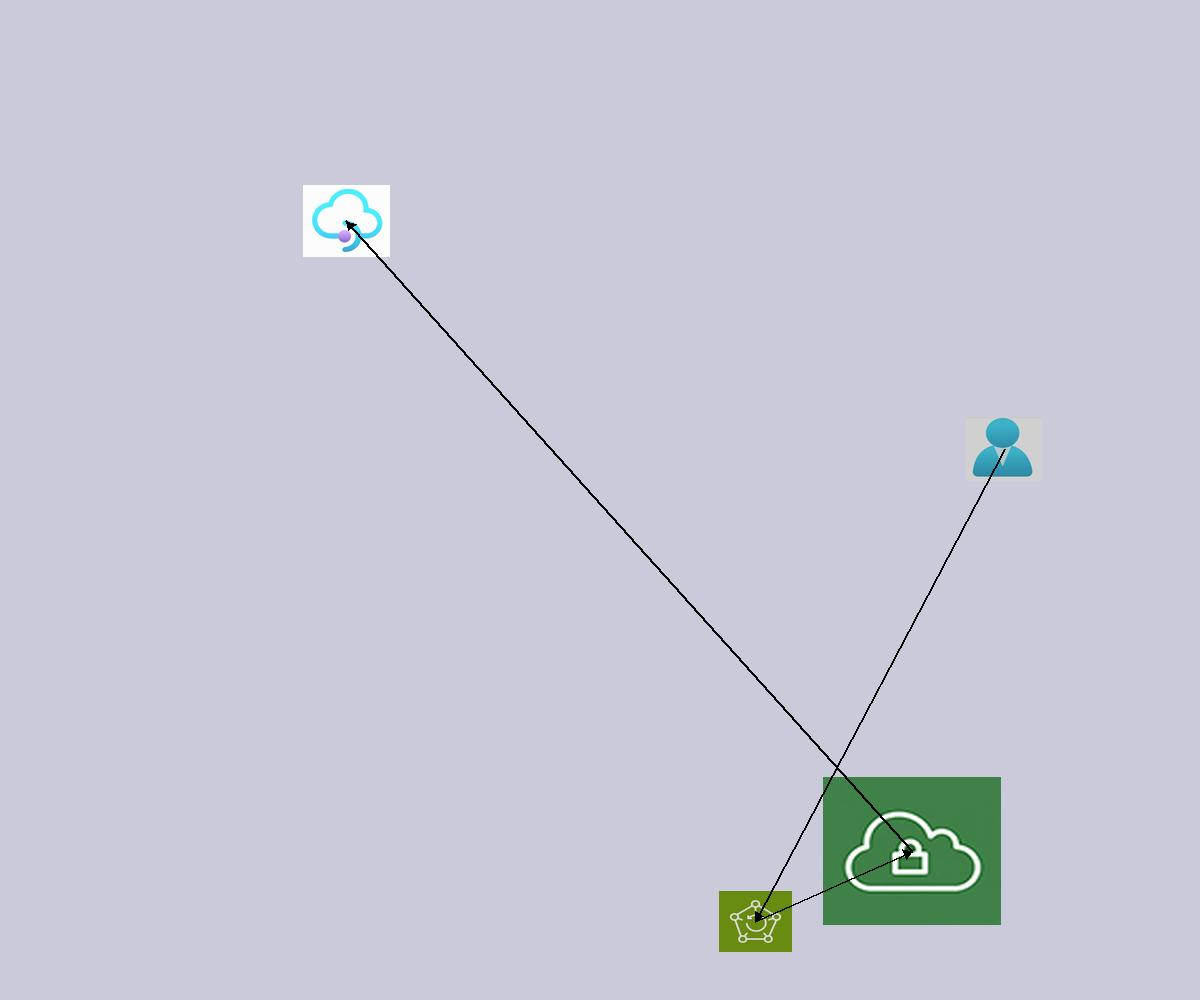AWS-Backup: (719, 891, 792, 952)
AWS-Private_vpc: (823, 777, 1001, 925)
Azure_api_gateway: (303, 185, 390, 257)
Azure_users: (966, 417, 1042, 481)
